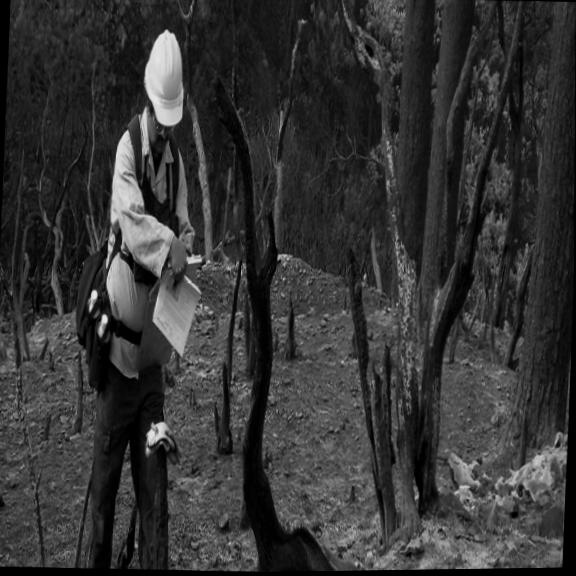no_safety_vest: (101, 126, 195, 327)
